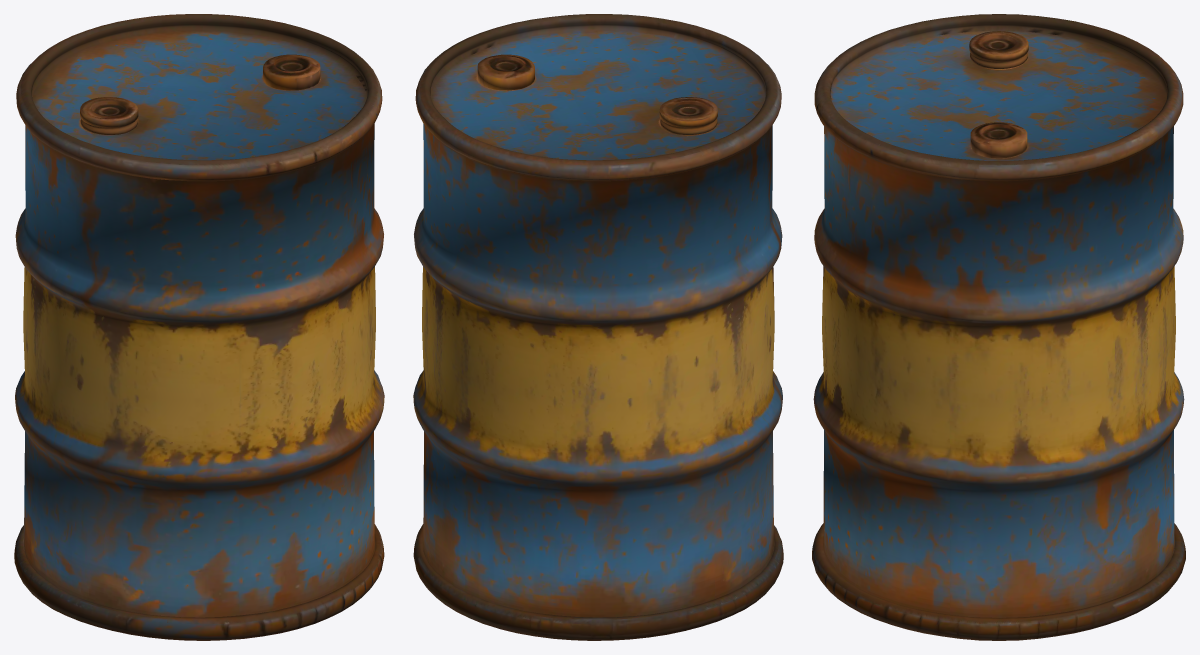
File: old_oil_barrel_a6459ce8_v3.glb
3 renders of one model, left to right at view 1: azimuth 30°, elevation 25°; view 2: azimuth 150°, elevation 25°; view 3: azimuth 270°, elevation 25°, orthographic.
Visible parts, largest first — view 1: material; view 2: material; view 3: material.
Part boxes in pixels (x1,y1,x2,y2): material: (14,14,384,640); material: (413,14,783,640); material: (812,14,1185,640).
Size of the model in its own units: 1.34 by 1.9 by 1.35.
1 material, 1 textured.
